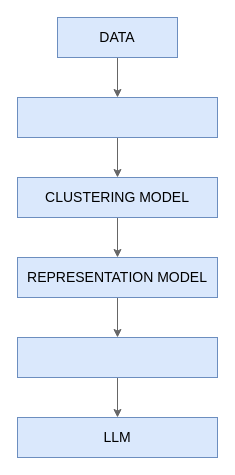
The diagram is 235 pixels wide and 475 high, and some of its shapes have lost their labels. Here are the shapes that lost their labels. From the top down, the box of each, then its label:
(16, 96, 218, 138): GENERATE EMBEDDINGS
(16, 336, 218, 378): BERT TOPIC
